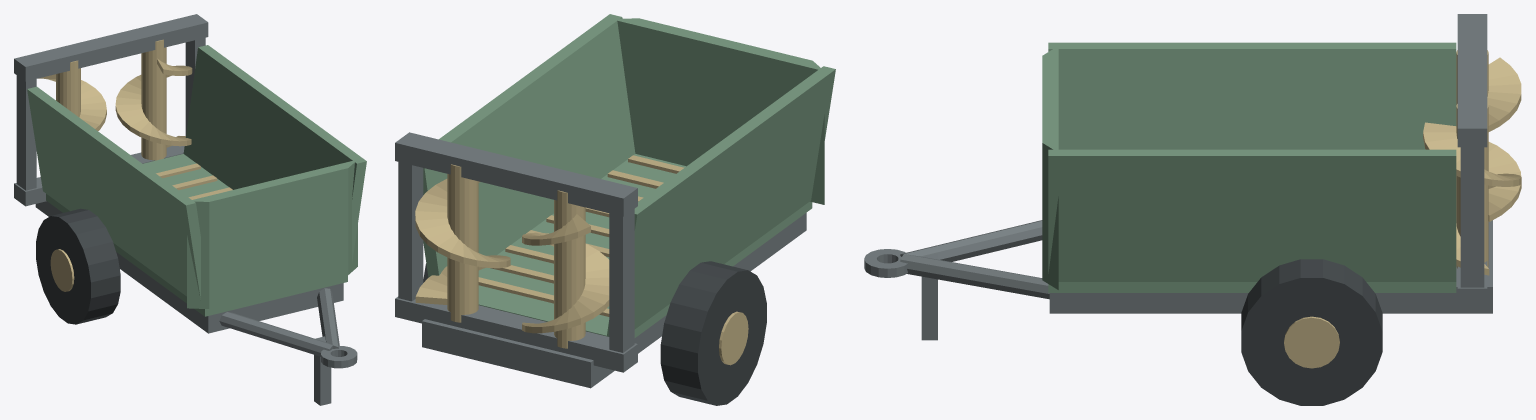
The picture shows the model from 3 angles, left to right: view 1: azimuth 30°, elevation 25°; view 2: azimuth 150°, elevation 25°; view 3: azimuth 270°, elevation 25°; orthographic projection. The views are drawn at different scales.
Visible parts, largest first — view 1: WholeClosedFrontBoxWall, WholeFlaredLongBoxSide0, WholeFlaredLongBoxSide1, WholeFiniteRoadWheel0, WholeRearUpperDrumBeam, WholeLongRearDischargeUnderframe, WholeLongEmptyApronBed, WholeVerticalRearDrum1, WholeContinuousBluntHelicalDrumVane1, WholeRearDrumGatePost0, WholeLongConvergingDrawMember0, WholeVerticalRearDrum0 (+7 smaller); view 2: WholeFlaredLongBoxSide0, WholeFlaredLongBoxSide1, WholeClosedFrontBoxWall, WholeFiniteRoadWheel0, WholeRearUpperDrumBeam, WholeLongRearDischargeUnderframe, WholeLongEmptyApronBed, WholeRearLowerDrumBeam, WholeVerticalRearDrum1, WholeContinuousBluntHelicalDrumVane1, WholeContinuousBluntHelicalDrumVane0, WholeRearDrumGatePost0 (+8 smaller); view 3: WholeFlaredLongBoxSide1, WholeFlaredLongBoxSide0, WholeFiniteRoadWheel1, WholeLongRearDischargeUnderframe, WholeRearUpperDrumBeam, WholeRearDrumGatePost1, WholeContinuousBluntHelicalDrumVane0, WholeClosedFrontBoxWall, WholeLongEmptyApronBed, WholeLongConvergingDrawMember1, WholeLongConvergingDrawMember0, WholeProudRoadHub1 (+5 smaller).
Part boxes in pixels (left/top/right/bottom): WholeClosedFrontBoxWall: left=187, top=161, right=357, bottom=308; WholeFlaredLongBoxSide0: left=27, top=86, right=200, bottom=300; WholeFlaredLongBoxSide1: left=183, top=45, right=366, bottom=263; WholeFiniteRoadWheel0: left=36, top=208, right=120, bottom=324; WholeRearUpperDrumBeam: left=14, top=14, right=208, bottom=81; WholeLongRearDischargeUnderframe: left=35, top=201, right=343, bottom=333; WholeLongEmptyApronBed: left=46, top=154, right=347, bottom=316; WholeVerticalRearDrum1: left=141, top=39, right=166, bottom=160; WholeContinuousBluntHelicalDrumVane1: left=115, top=58, right=192, bottom=147; WholeRearDrumGatePost0: left=16, top=75, right=36, bottom=190; WholeLongConvergingDrawMember0: left=219, top=312, right=332, bottom=356; WholeVerticalRearDrum0: left=56, top=60, right=80, bottom=117; WholeFlaredLongBoxSide0: left=607, top=66, right=835, bottom=336; WholeFlaredLongBoxSide1: left=423, top=14, right=635, bottom=277; WholeClosedFrontBoxWall: left=612, top=18, right=824, bottom=204; WholeFiniteRoadWheel0: left=660, top=261, right=766, bottom=405; WholeRearUpperDrumBeam: left=395, top=132, right=637, bottom=216; WholeLongRearDischargeUnderframe: left=422, top=213, right=806, bottom=388; WholeLongEmptyApronBed: left=478, top=154, right=812, bottom=337; WholeRearLowerDrumBeam: left=395, top=296, right=637, bottom=372; WholeVerticalRearDrum1: left=447, top=164, right=478, bottom=322; WholeContinuousBluntHelicalDrumVane1: left=415, top=179, right=510, bottom=304; WholeContinuousBluntHelicalDrumVane0: left=522, top=214, right=609, bottom=333; WholeRearDrumGatePost0: left=609, top=209, right=634, bottom=352; WholeFlaredLongBoxSide1: left=1048, top=149, right=1456, bottom=281; WholeFlaredLongBoxSide0: left=1048, top=42, right=1456, bottom=149; WholeFiniteRoadWheel1: left=1241, top=259, right=1382, bottom=405; WholeLongRearDischargeUnderframe: left=1049, top=220, right=1492, bottom=313; WholeRearUpperDrumBeam: left=1457, top=14, right=1487, bottom=147; WholeRearDrumGatePost1: left=1460, top=147, right=1484, bottom=287; WholeContinuousBluntHelicalDrumVane0: left=1487, top=57, right=1521, bottom=221; WholeClosedFrontBoxWall: left=1042, top=46, right=1058, bottom=289; WholeLongEmptyApronBed: left=1048, top=282, right=1456, bottom=292; WholeLongConvergingDrawMember1: left=900, top=254, right=1049, bottom=299; WholeLongConvergingDrawMember0: left=900, top=220, right=1042, bottom=261; WholeProudRoadHub1: left=1284, top=316, right=1339, bottom=368.
Size of the model in its own units: 2.26 by 1.99 by 4.46.
